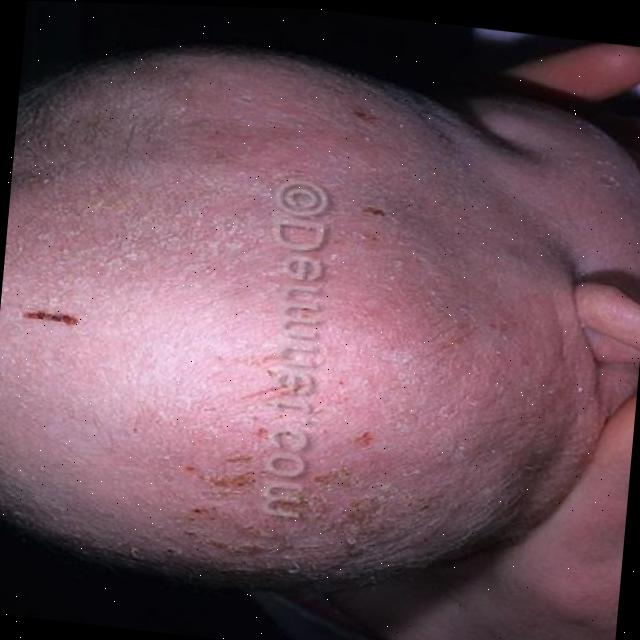Eczema: (0, 60, 413, 562)
